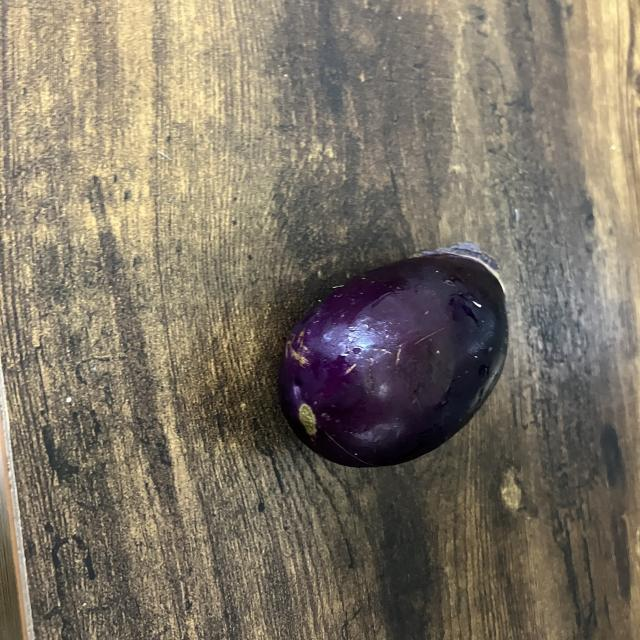eggplant: (282, 250, 511, 470)
